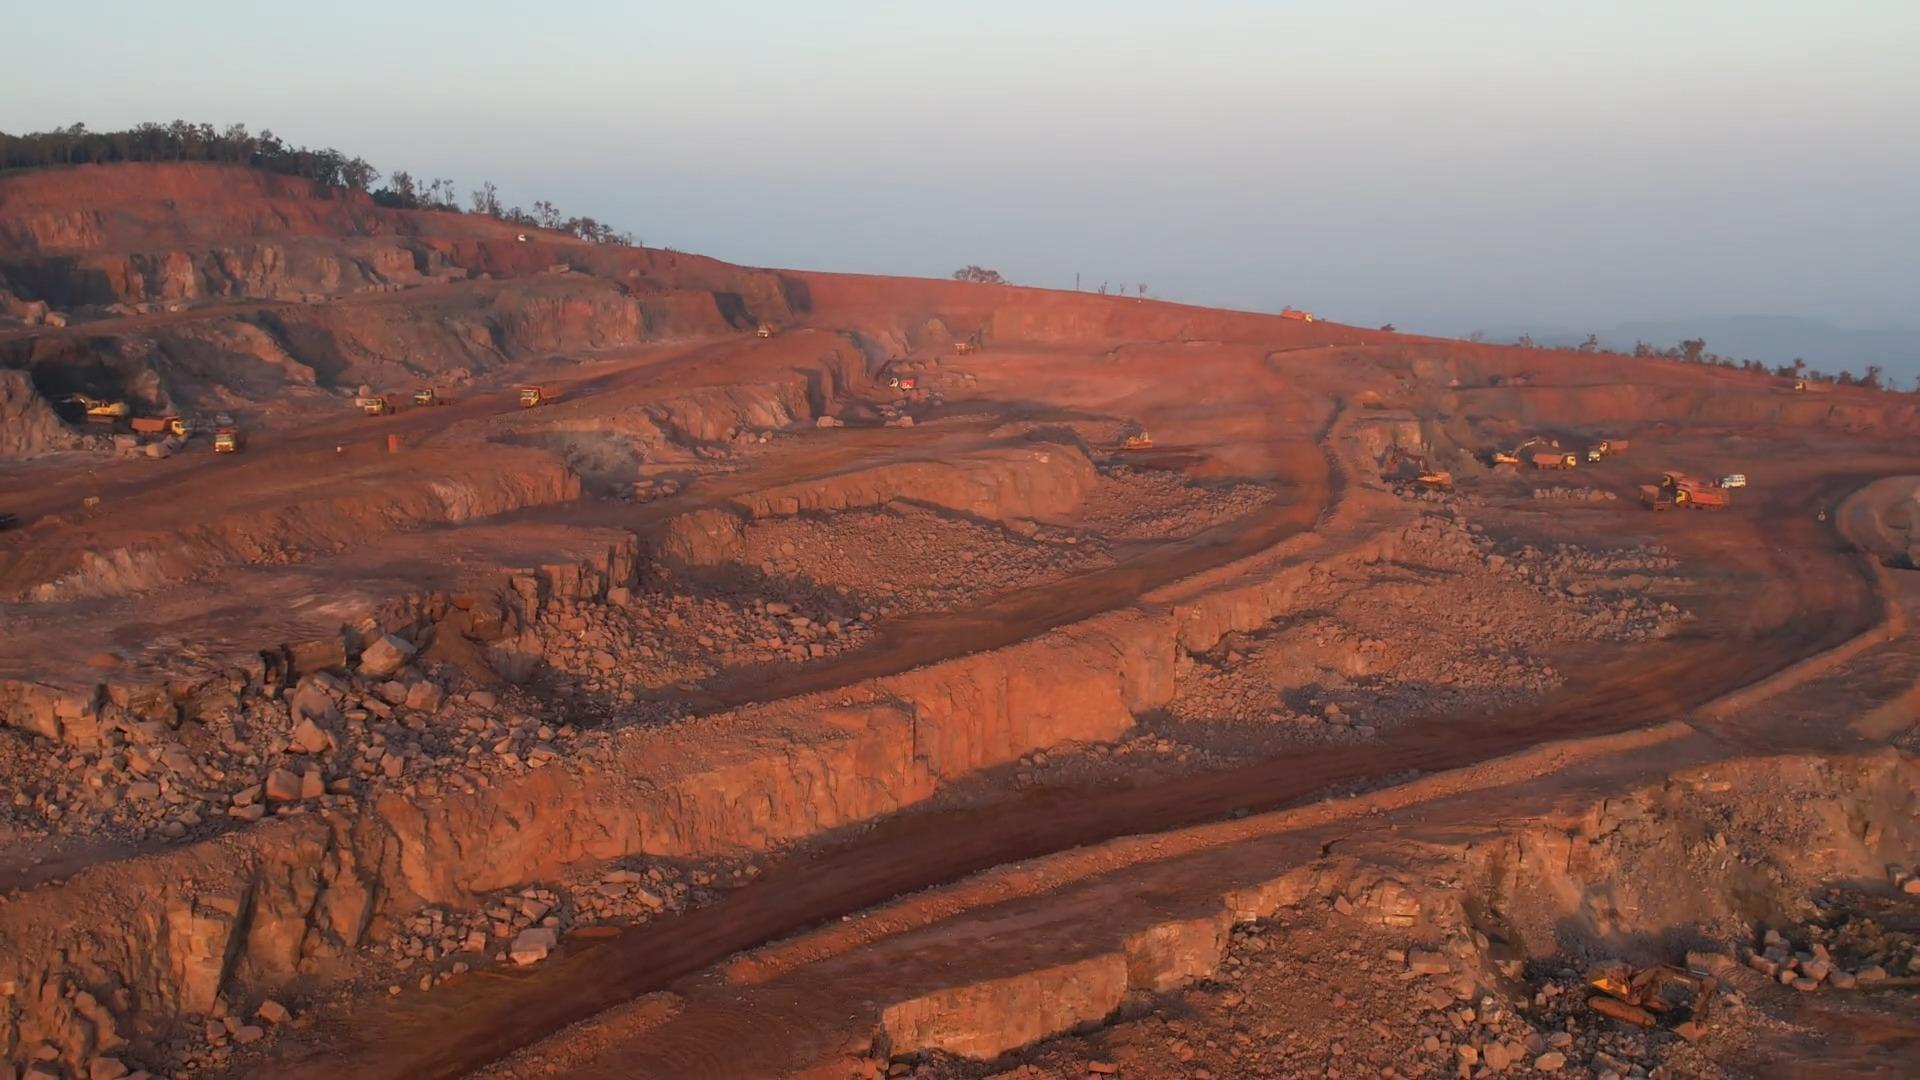excavator: (1585, 953, 1712, 1046), (62, 393, 128, 426)
